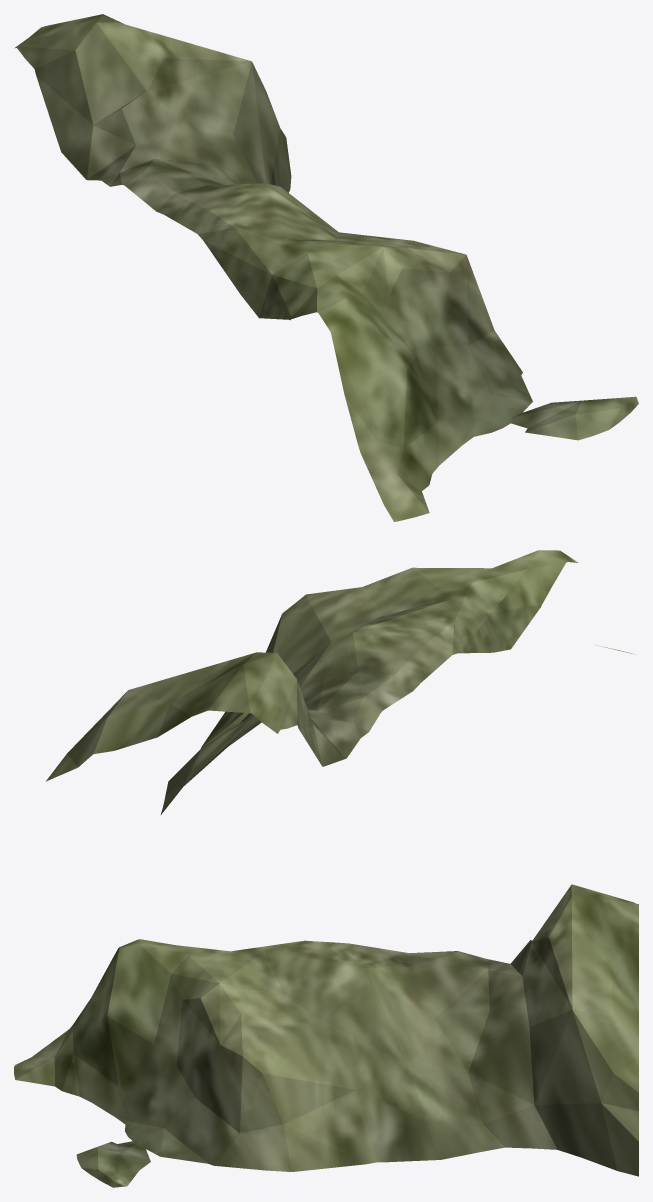
3 renders of one model, top to bottom at view 1: azimuth 30°, elevation 25°; view 2: azimuth 150°, elevation 25°; view 3: azimuth 270°, elevation 25°, orthographic. The views are drawn at different scales.
Bounding box in the file's own units: 1.07 × 0.8044 × 2.3.
1 material, 1 textured.
